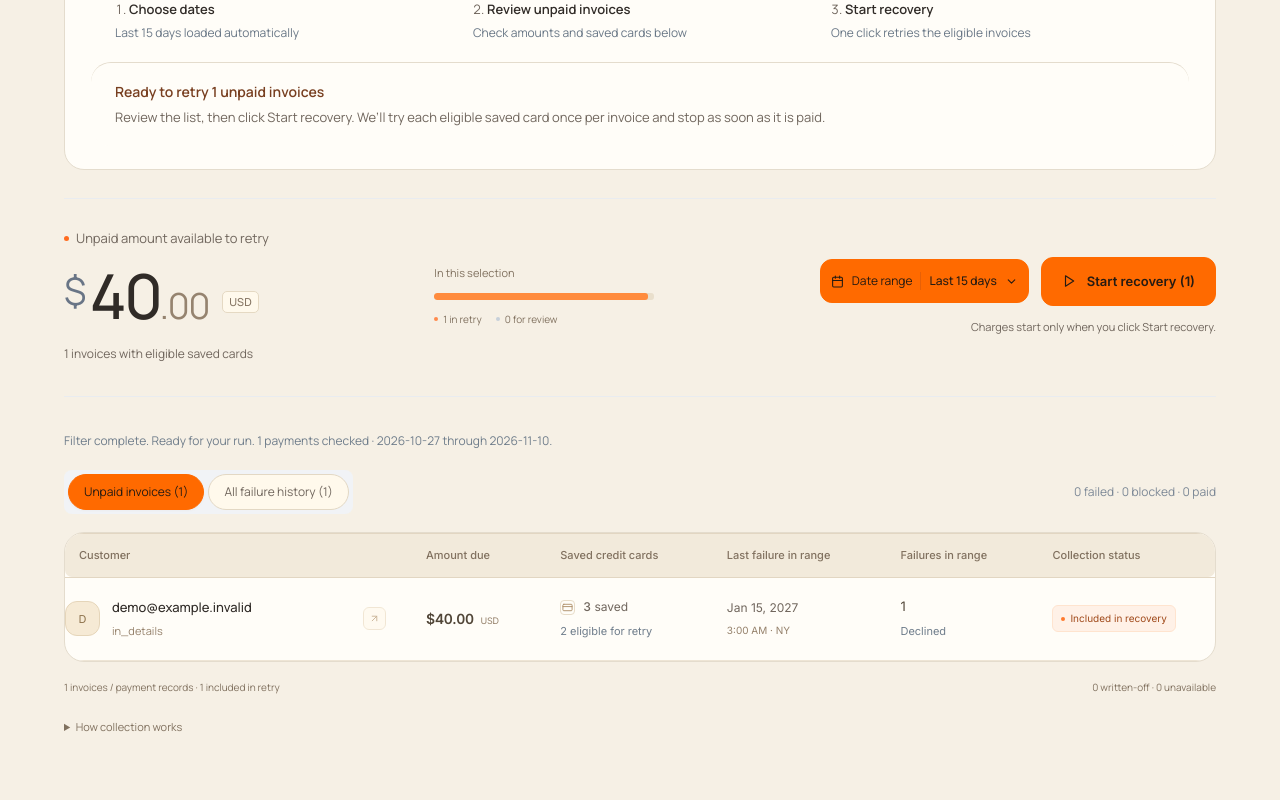
Test: opening an invoice detail drawer is read-only and closing restores the table
(page scrolled)
Click the button with class "desk-customer-button": x=82, y=619 [65,598,394,640]
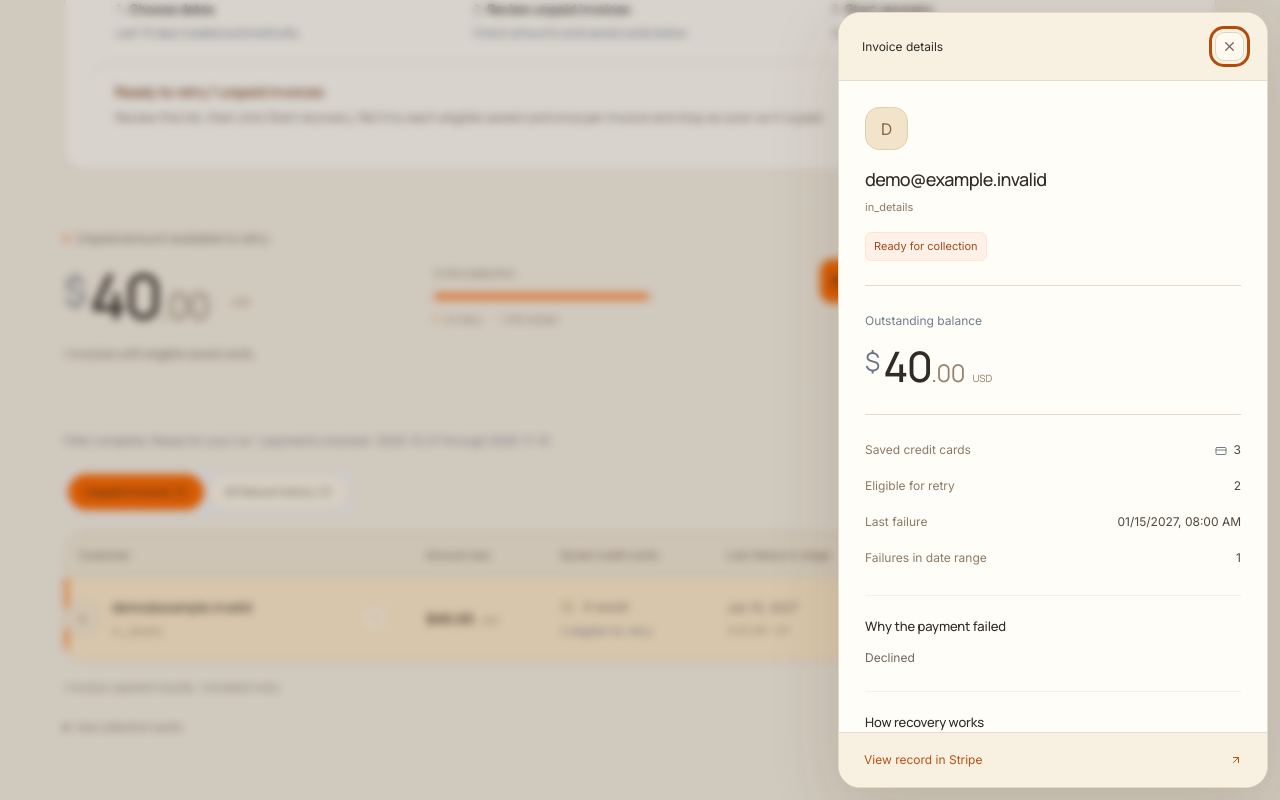
Check: the dialog is shown, box [838,12,1268,788]
Check: the dialog shows "demo@example.invalid", box [865,167,1047,191]
Check: the dialog shows "Saved credit cards", box [865,442,971,457]
Click the button named "Close invoice details": x=1230, y=46 [1215,32,1244,61]
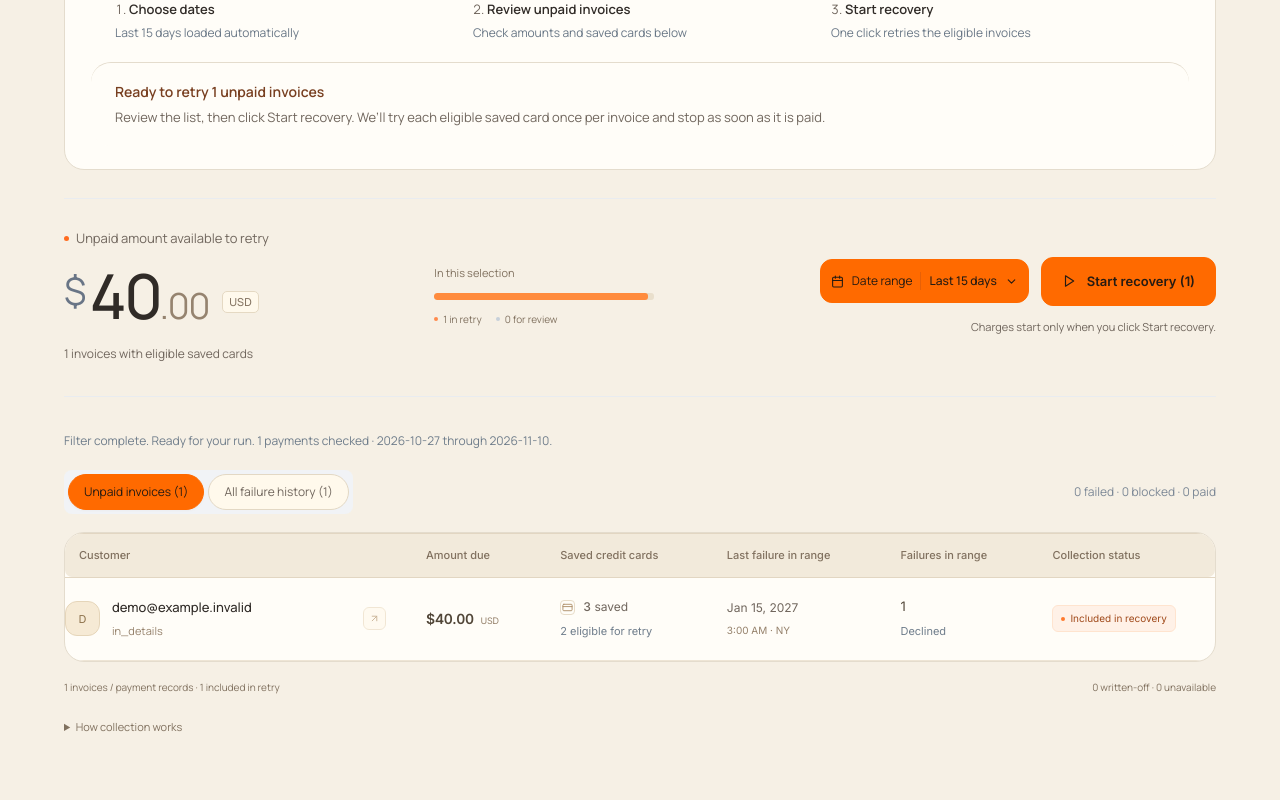
Check: the dialog is gone
